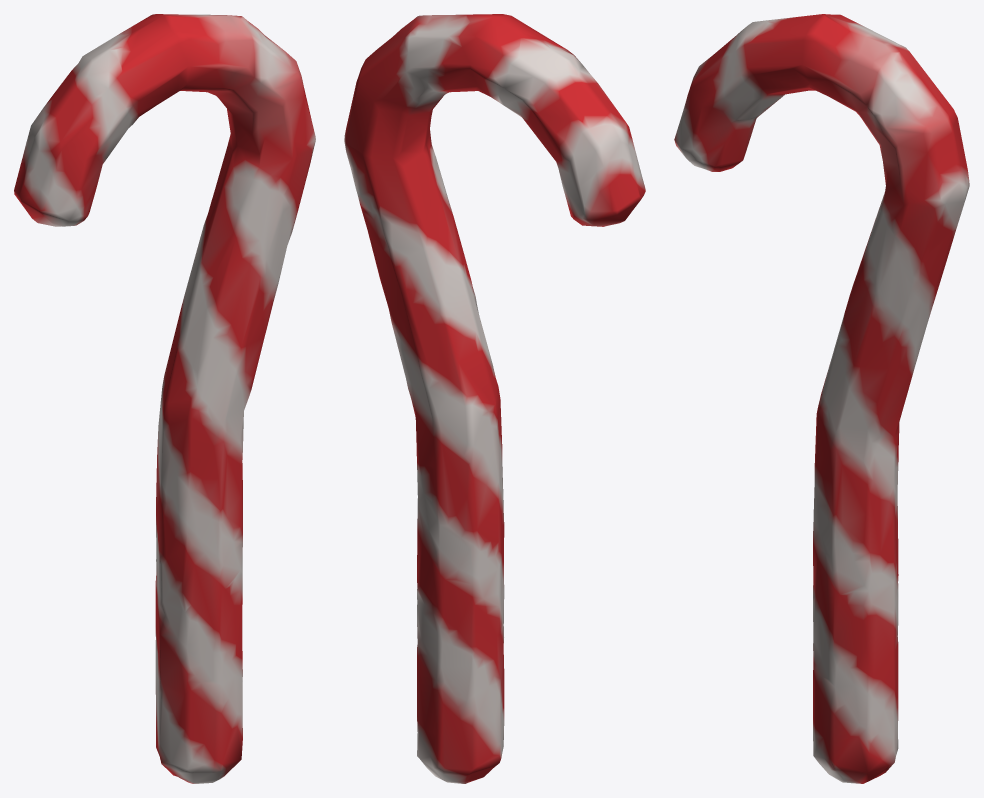
Rendered from gen3d-candy-cane-lod0.glb.
3 views of the same model, side by side, from view 1: azimuth 30°, elevation 25°; view 2: azimuth 150°, elevation 25°; view 3: azimuth 330°, elevation 25° (orthographic). The views are drawn at different scales.
Visible parts, largest first — view 1: part_0; view 2: part_0; view 3: part_0.
Part boxes in pixels (box(x1,y1,x2,y2)): part_0: box(14, 14, 315, 783); part_0: box(344, 14, 645, 783); part_0: box(674, 14, 969, 783).
Size of the model in its own units: 0.3922 by 0.9993 by 0.1036.
